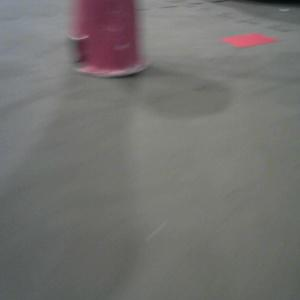middle: (64, 1, 152, 77)
